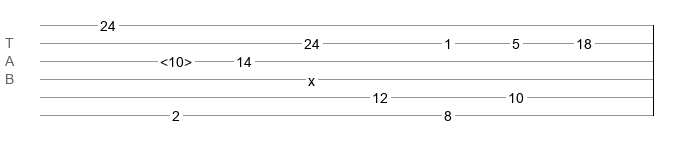1: (444, 36, 452, 46)
10: (508, 90, 524, 100)
12: (372, 90, 388, 100)
14: (236, 54, 252, 64)
18: (576, 36, 592, 46)
2: (172, 108, 180, 118)
24: (100, 18, 116, 28), (304, 36, 320, 46)
5: (512, 36, 520, 46)
8: (444, 108, 452, 118)
harmonic: (160, 54, 192, 64)
x: (308, 73, 315, 81)
